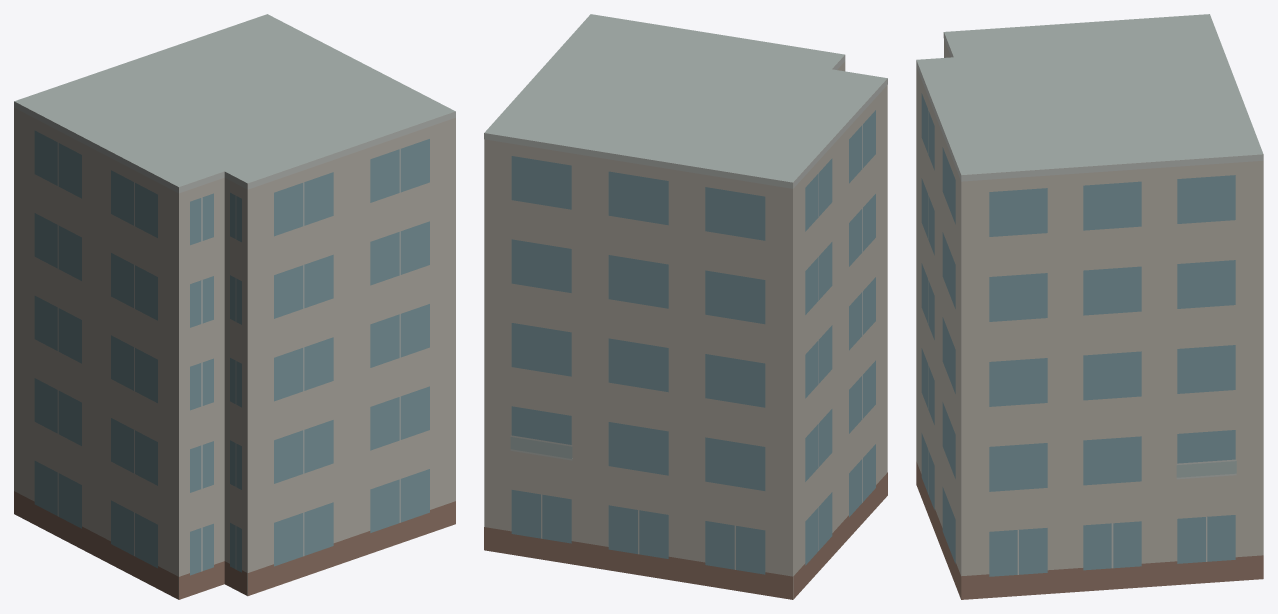
File: survey-upis-32538600.glb
3 renders of one model, left to right at view 1: azimuth 30°, elevation 25°; view 2: azimuth 150°, elevation 25°; view 3: azimuth 270°, elevation 25°, orthographic. The views are drawn at different scales.
Parts seen in each view (by area): view 1: survey-upis-32538600.tmp; view 2: survey-upis-32538600.tmp; view 3: survey-upis-32538600.tmp.
Boxes of the visible parts, box(x1,y1,x2,y2) form: survey-upis-32538600.tmp: box(14, 14, 455, 599); survey-upis-32538600.tmp: box(484, 14, 887, 599); survey-upis-32538600.tmp: box(916, 14, 1263, 599).
Size of the model in its own units: 13.18 by 16.18 by 12.01.
